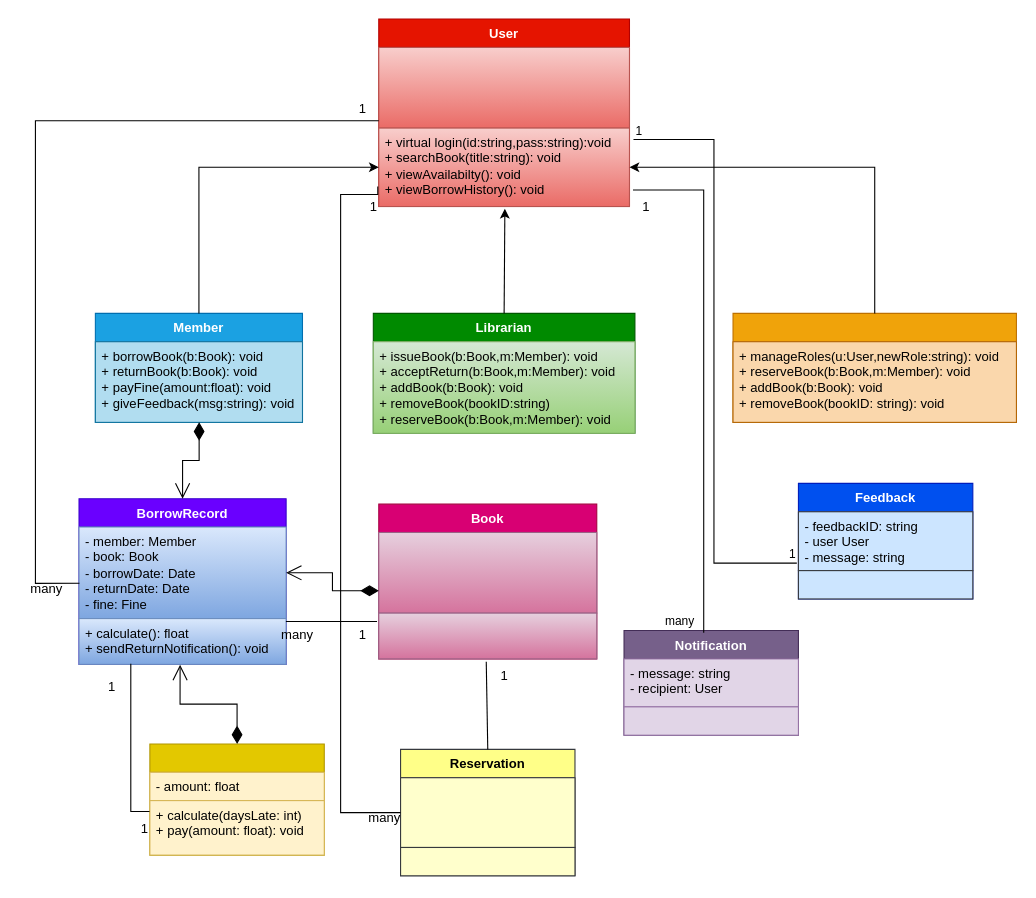
This 1036x898 diagram has some shape labels left out. Each missing label, with the box of its shape:
# userID:string # name:string # password:string # libraryCardID:string: (378, 46, 629, 128)
+ getAvailability(): bool + updateRecord(title: string): void: (378, 612, 597, 659)
+ reserveBook(): void: (399, 846, 575, 876)
+ send(): void: (623, 706, 798, 735)
+ submit(): void: (797, 570, 973, 599)
- bookID: string - title: string - author: string - isAvailable: bool: (378, 531, 597, 613)
- member: Member - book: Book - reserveDate: Date: (399, 777, 575, 847)
Admin: (732, 312, 1016, 422)
FIne: (149, 743, 324, 855)
